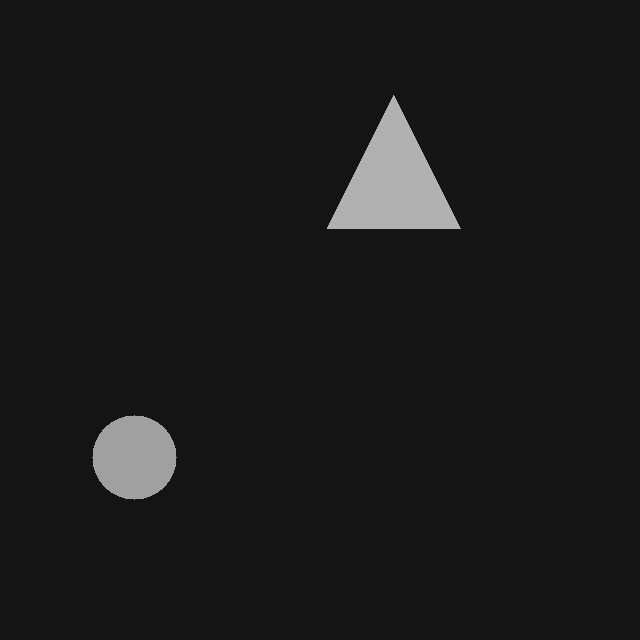circle: (92, 415, 176, 499)
triangle: (327, 95, 460, 228)
